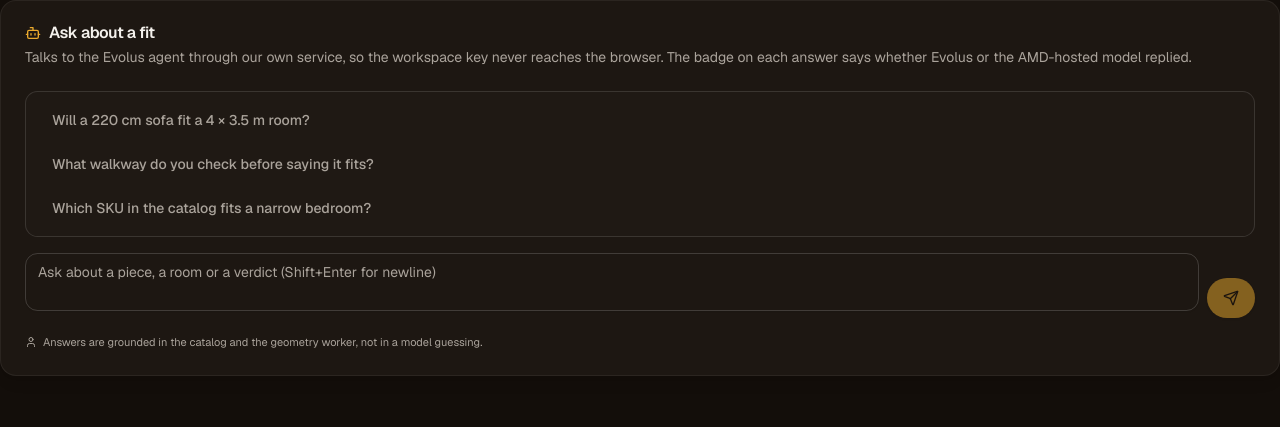
Scenario: AgentChat › tells the shopper when there is no brain behind the panel
Click the button "Which SKU in the catalog fits a narrow bedroom?". click: (212, 208)
box: [38, 192, 1242, 224]
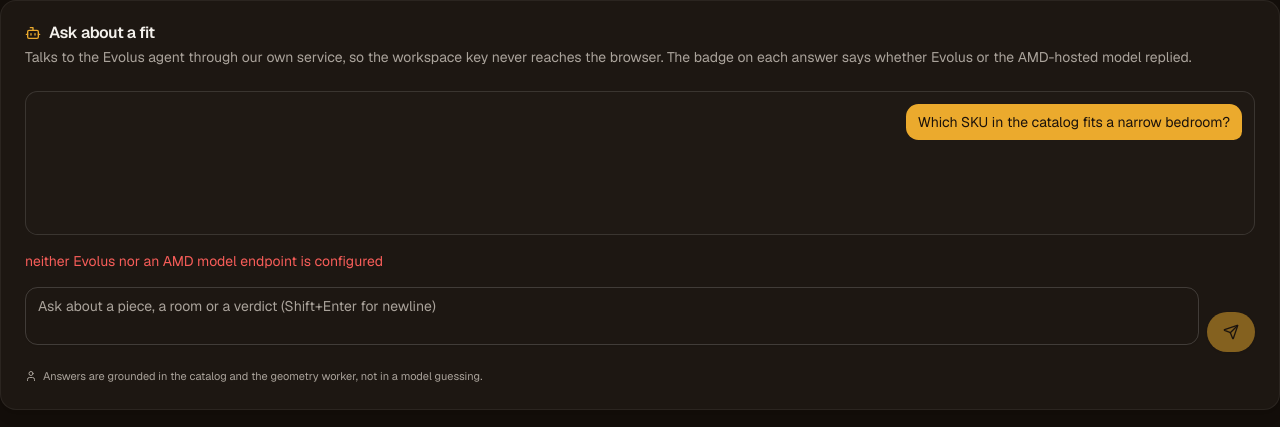
Now the text "neither Evolus nor an AMD model endpoint is configured" is shown, box [25, 252, 383, 270]
